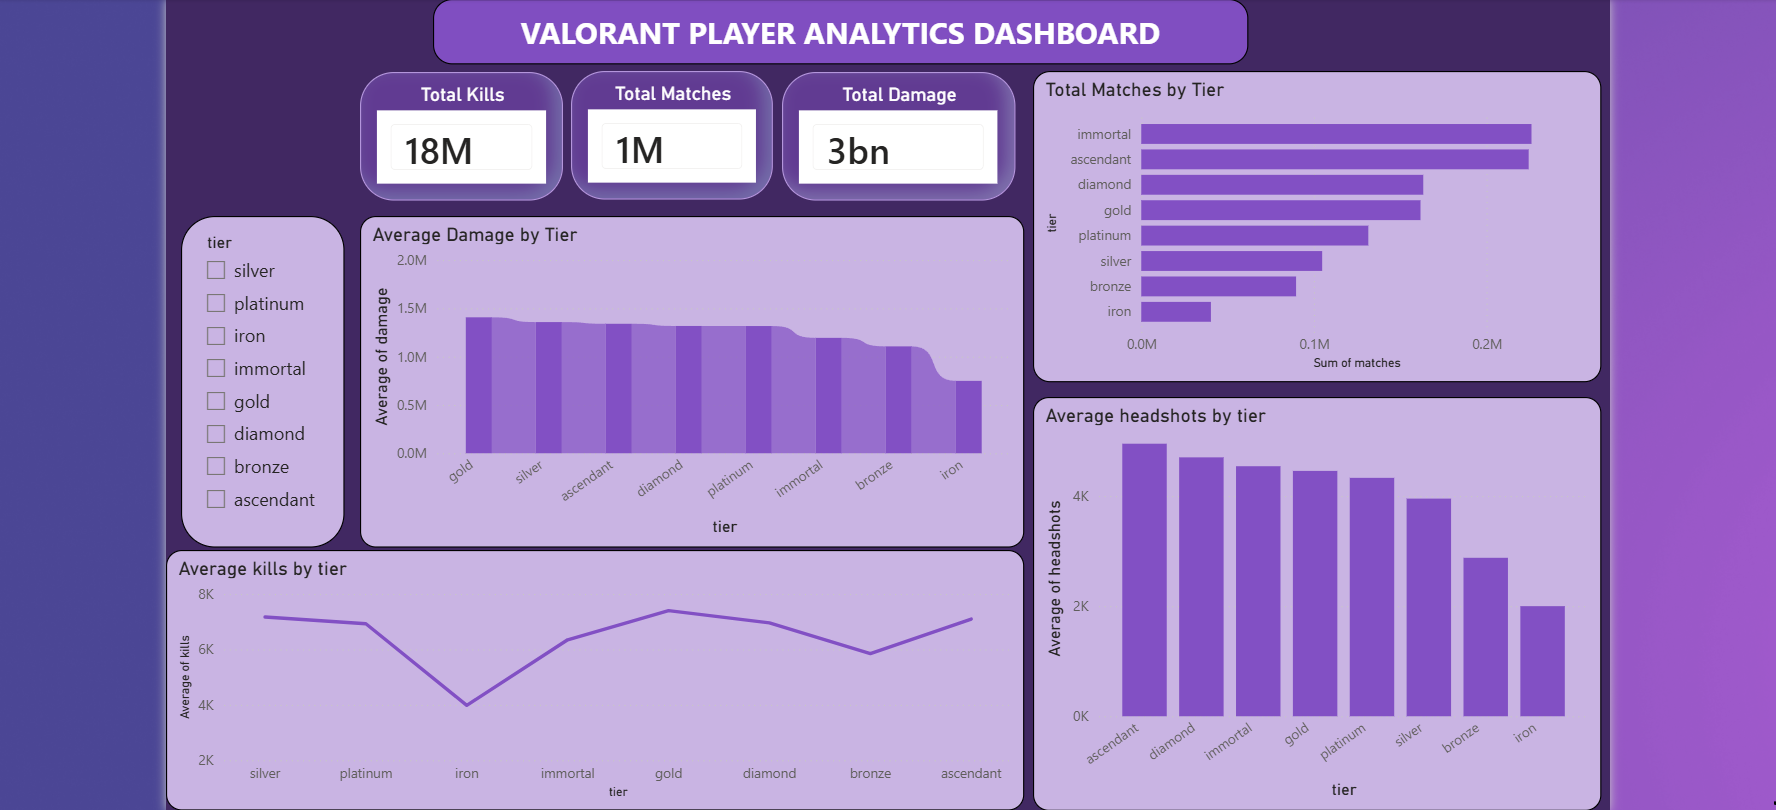

What the dashboard file says about the page in this screenshot:
{"tool":"powerbi","page":{"name":"Page 1","canvas":[1280,720],"ordinal":0},"visuals":[{"type":"lineChart","title":"Average kills by tier","fields":{"Category":["valorant_dataset_v3.tier"],"Y":["Avg(valorant_dataset_v3.kills)"]},"box":[0,488.6,760.8,231.4],"z":0},{"type":"ribbonChart","title":"Average Damage by Tier","fields":{"Category":["valorant_dataset_v3.tier"],"Y":["Avg(valorant_dataset_v3.damage)"]},"box":[172,192.4,588.8,294.4],"z":1000},{"type":"barChart","title":"Total Matches by Tier","fields":{"Category":["valorant_dataset_v3.tier"],"Y":["Sum(valorant_dataset_v3.matches)"]},"box":[768.8,63.8,503.6,275.8],"z":2000},{"type":"clusteredColumnChart","title":"Average  headshots by tier","fields":{"Category":["valorant_dataset_v3.tier"],"Y":["Avg(valorant_dataset_v3.headshots)"]},"box":[768.8,352.9,503.6,367.1],"z":3000},{"type":"cardVisual","title":"Total Kills","fields":{"Data":["Sum(valorant_dataset_v3.kills)"]},"box":[172,64.7,180,114.4],"z":4000},{"type":"cardVisual","title":"Total Matches","fields":{"Data":["Sum(valorant_dataset_v3.matches)"]},"box":[359.1,63.8,179.1,114.4],"z":5000},{"type":"cardVisual","title":"Total Damage","fields":{"Data":["Sum(valorant_dataset_v3.damage)"]},"box":[546.2,64.7,206.6,114.4],"z":6000},{"type":"slicer","fields":{"Values":["valorant_dataset_v3.tier"]},"box":[13.3,192.4,144.5,294.4],"z":7000},{"type":"textbox","box":[236.7,0,722.7,57.6],"z":8000}]}

Visuals, with their boxes in screenshot pixels (x1, y1, x2, y2):
"Average kills by tier" lineChart: left=180, top=542, right=1024, bottom=798
"Average Damage by Tier" ribbonChart: left=371, top=213, right=1024, bottom=540
"Total Matches by Tier" barChart: left=1033, top=71, right=1591, bottom=376
"Average  headshots by tier" clusteredColumnChart: left=1033, top=391, right=1591, bottom=798
"Total Kills" cardVisual: left=371, top=72, right=571, bottom=199
"Total Matches" cardVisual: left=578, top=71, right=777, bottom=198
"Total Damage" cardVisual: left=786, top=72, right=1015, bottom=199
slicer - valorant_dataset_v3.tier: left=195, top=213, right=355, bottom=540
textbox: left=443, top=0, right=1244, bottom=64
